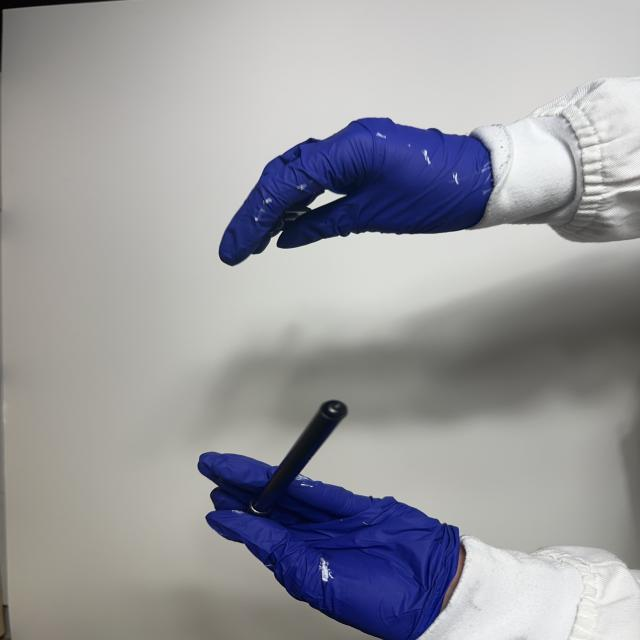gloves_contaminated: (199, 453, 462, 640), (220, 118, 492, 266)
